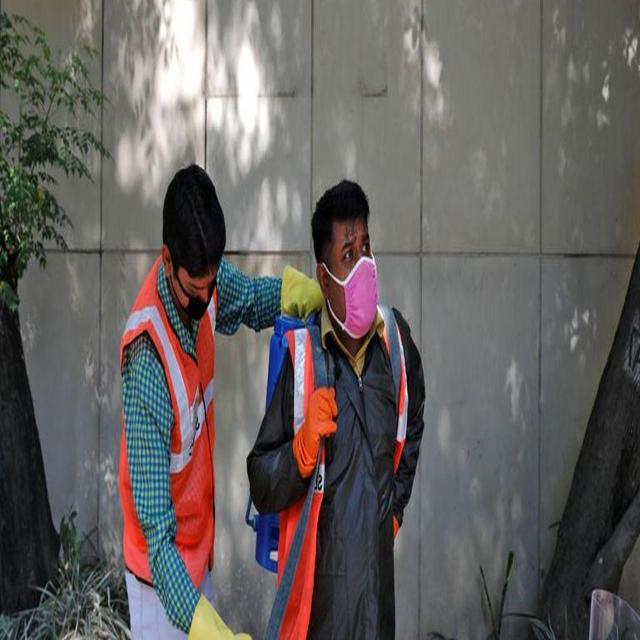Reflective-Jacket: (268, 287, 416, 637), (114, 258, 225, 592)
